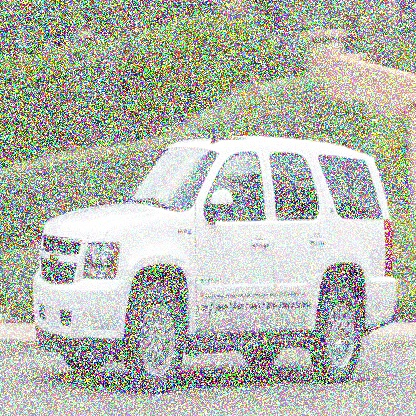Vehicle: (32, 133, 400, 397)
